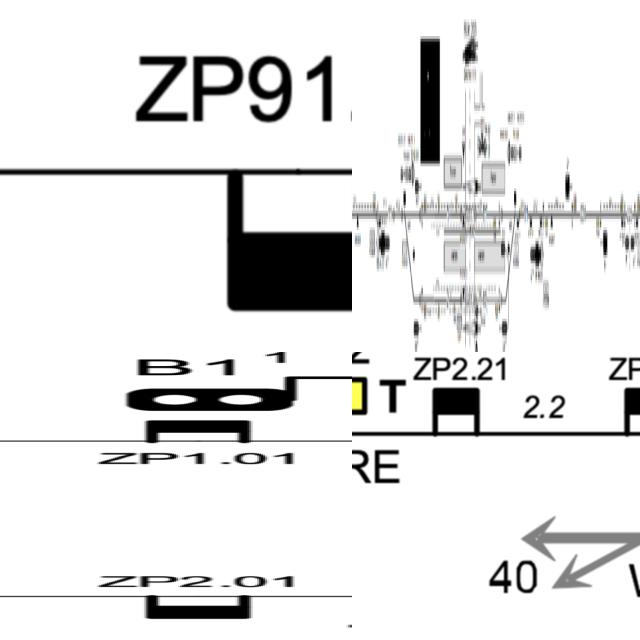mainsignal: (412, 320, 422, 340), (499, 319, 507, 335)
radzaehler: (175, 149, 352, 330), (128, 416, 282, 448), (131, 592, 268, 624), (430, 384, 484, 442), (620, 384, 640, 442), (516, 212, 520, 231), (636, 213, 638, 230), (540, 213, 542, 230), (379, 213, 381, 230), (622, 214, 624, 228), (530, 212, 532, 226)
trackjoint: (419, 291, 421, 308), (475, 291, 477, 308), (500, 291, 502, 308), (460, 294, 462, 310), (475, 208, 477, 224), (501, 208, 503, 224), (392, 209, 394, 223), (419, 209, 421, 223), (401, 210, 403, 222), (460, 208, 462, 219)
tracknumber: (578, 200, 587, 227), (626, 201, 633, 226), (446, 284, 449, 315), (388, 202, 392, 225), (524, 202, 528, 225), (483, 204, 487, 223), (483, 290, 487, 309), (446, 201, 449, 226)
weiche: (403, 190, 406, 215), (514, 189, 516, 216)
